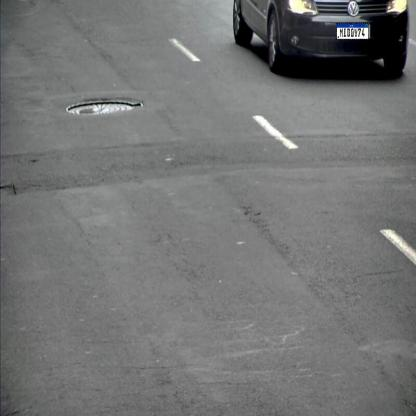PlacaM: (336, 23, 368, 39)
